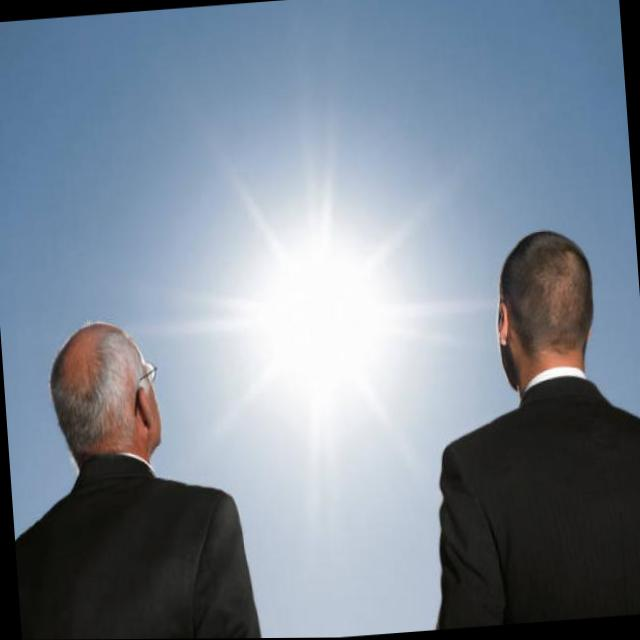no helmet: (21, 284, 186, 495), (466, 209, 610, 387)
